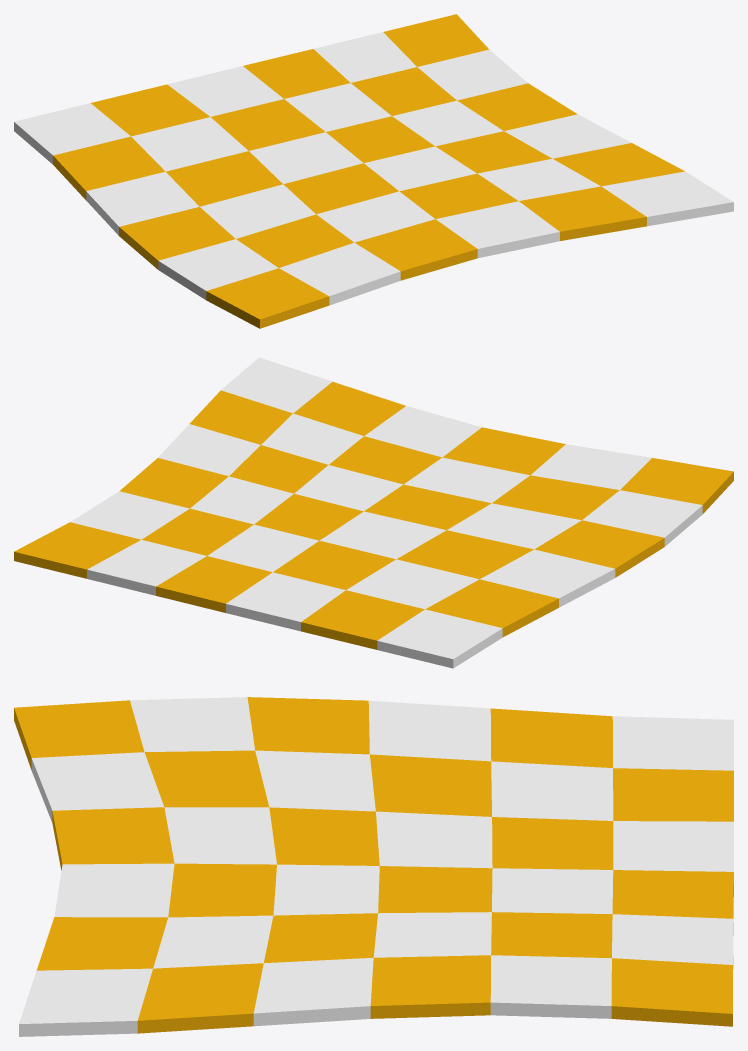
The model's file is SM_Picknickdecke_01.fbx.
3 renders of one model, top to bottom at view 1: azimuth 30°, elevation 25°; view 2: azimuth 150°, elevation 25°; view 3: azimuth 270°, elevation 25°, orthographic. The views are drawn at different scales.
Visible parts, largest first — view 1: Picknickdecke_01.001; view 2: Picknickdecke_01.001; view 3: Picknickdecke_01.001.
Boxes of the visible parts, x1,y1,x2,y2 form: Picknickdecke_01.001: (14,14,733,328); Picknickdecke_01.001: (14,357,733,668); Picknickdecke_01.001: (14,697,733,1036).
Size of the model in its own units: 234 by 4.27 by 218.
